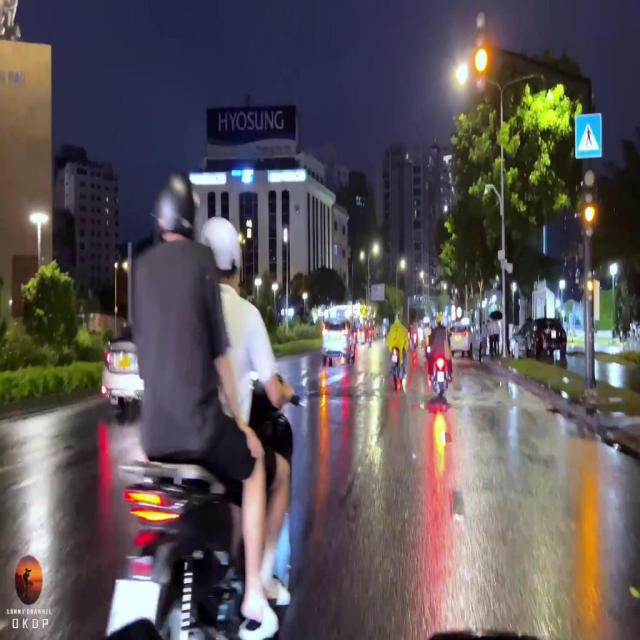duong_nguoi_di_bo_sang_ngang: (576, 113, 601, 158)
